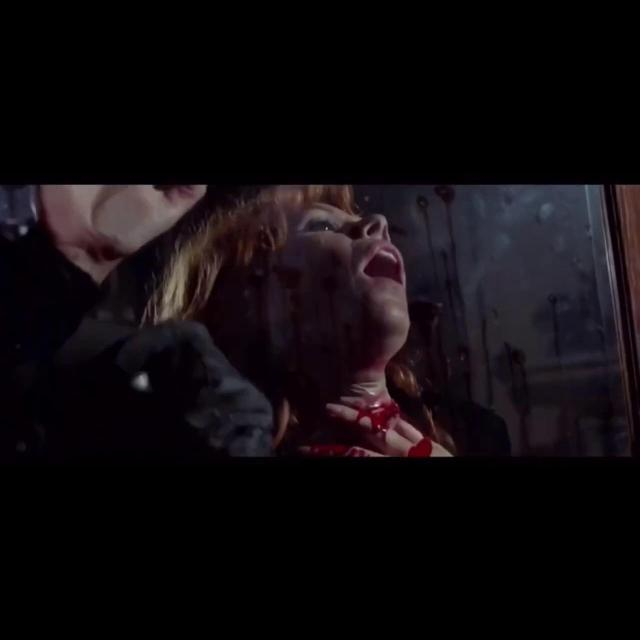blood: (265, 246, 450, 457)
